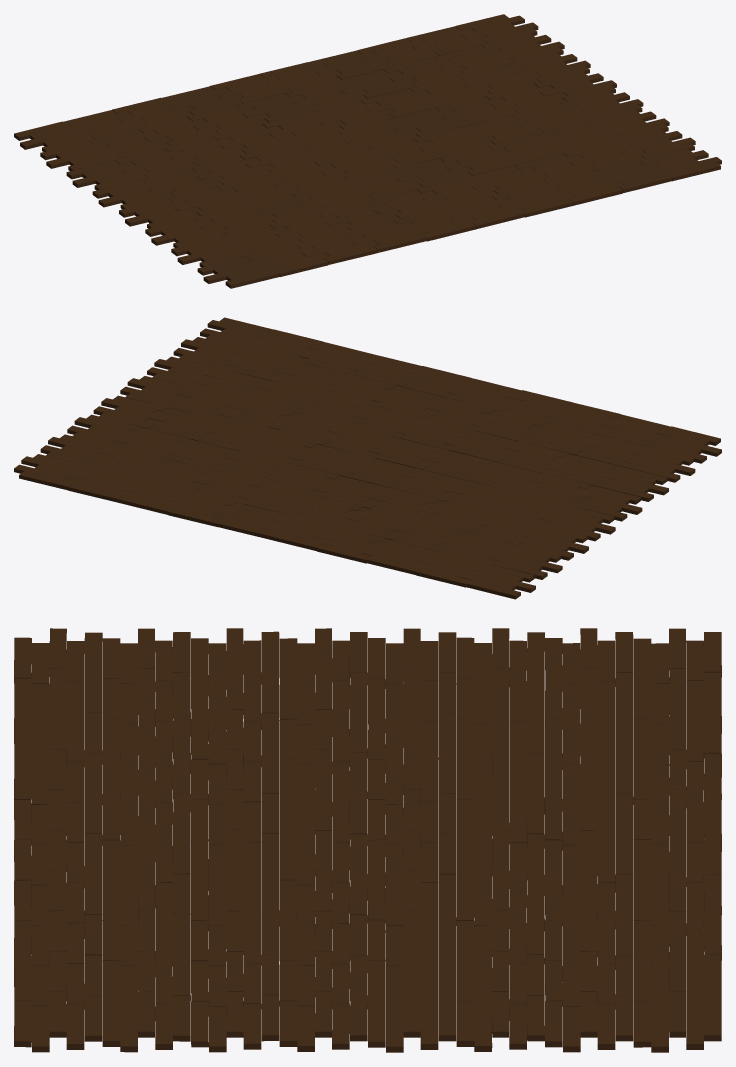
The model's file is паркет_lp.fbx.
3 views of the same model, one above another, from view 1: azimuth 30°, elevation 25°; view 2: azimuth 150°, elevation 25°; view 3: azimuth 270°, elevation 25° (orthographic). The views are drawn at different scales.
Parts seen in each view (by area): view 1: Cube.074, Cube.004, Cube.075, Cube.018, Cube.026, Cube.042, Cube.081, Cube.080, Cube.076, Cube.066, Cube.078, Cube.077 (+68 smaller); view 2: Cube.081, Cube.009, Cube.033, Cube.057, Cube.074, Cube.080, Cube.049, Cube.075, Cube.017, Cube.025, Cube.078, Cube.079 (+68 smaller); view 3: Cube.006, Cube.009, Cube.004, Cube.008, Cube.003, Cube.002, Cube.005, Cube.007, Cube.048, Cube.029, Cube.024, Cube.028 (+68 smaller).
Boxes of the visible parts, <box> form: Cube.074: <box>197,256,280,288</box>; Cube.004: <box>639,149,721,181</box>; Cube.075: <box>171,237,253,267</box>; Cube.018: <box>541,172,623,205</box>; Cube.026: <box>492,184,574,217</box>; Cube.042: <box>394,208,476,241</box>; Cube.081: <box>14,121,96,151</box>; Cube.080: <box>40,141,122,171</box>; Cube.076: <box>145,218,227,247</box>; Cube.066: <box>247,244,328,276</box>; Cube.078: <box>92,179,175,209</box>; Cube.077: <box>119,198,200,228</box>; Cube.081: <box>461,563,535,599</box>; Cube.009: <box>14,454,88,490</box>; Cube.033: <box>163,490,237,526</box>; Cube.057: <box>312,526,386,563</box>; Cube.074: <box>647,426,721,463</box>; Cube.080: <box>488,543,562,579</box>; Cube.049: <box>263,514,337,551</box>; Cube.075: <box>620,446,695,482</box>; Cube.017: <box>64,466,138,502</box>; Cube.025: <box>113,478,187,514</box>; Cube.078: <box>541,504,615,541</box>; Cube.079: <box>514,524,588,560</box>; Cube.006: <box>368,991,456,1052</box>; Cube.009: <box>633,991,721,1052</box>; Cube.004: <box>14,991,102,1052</box>; Cube.008: <box>545,992,633,1052</box>; Cube.003: <box>191,992,279,1052</box>; Cube.002: <box>102,991,190,1052</box>; Cube.005: <box>279,991,367,1051</box>; Cube.007: <box>456,992,544,1051</box>; Cube.048: <box>545,789,633,850</box>; Cube.029: <box>279,870,367,928</box>; Cube.024: <box>545,910,633,968</box>; Cube.028: <box>191,870,279,930</box>.
Bounding box in the file's own units: 2262 × 18.63 × 1620.
